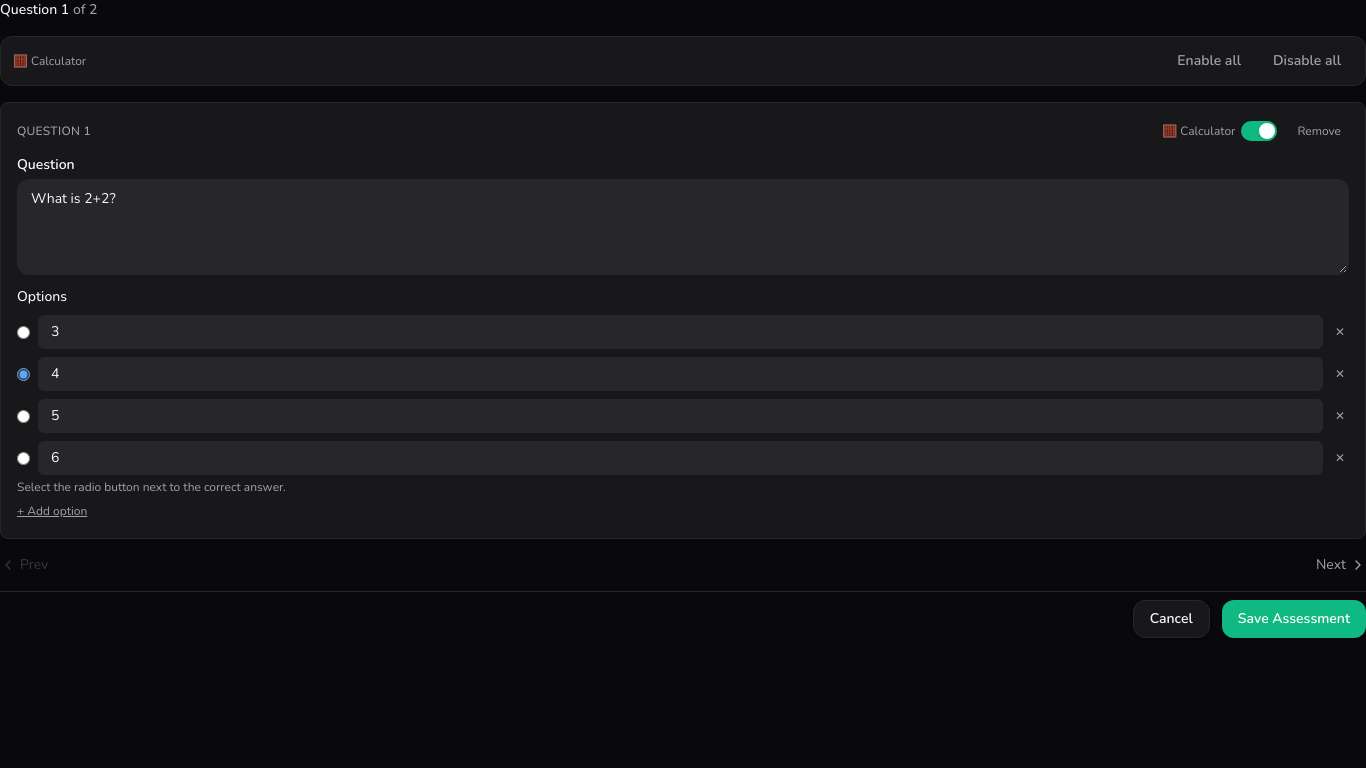
Test: AssessmentForm › cancels bulk confirm dialog when cancel is clicked
Click the button with aria-label "Enable calculator for all questions": (1209, 61) [1165, 45, 1253, 77]
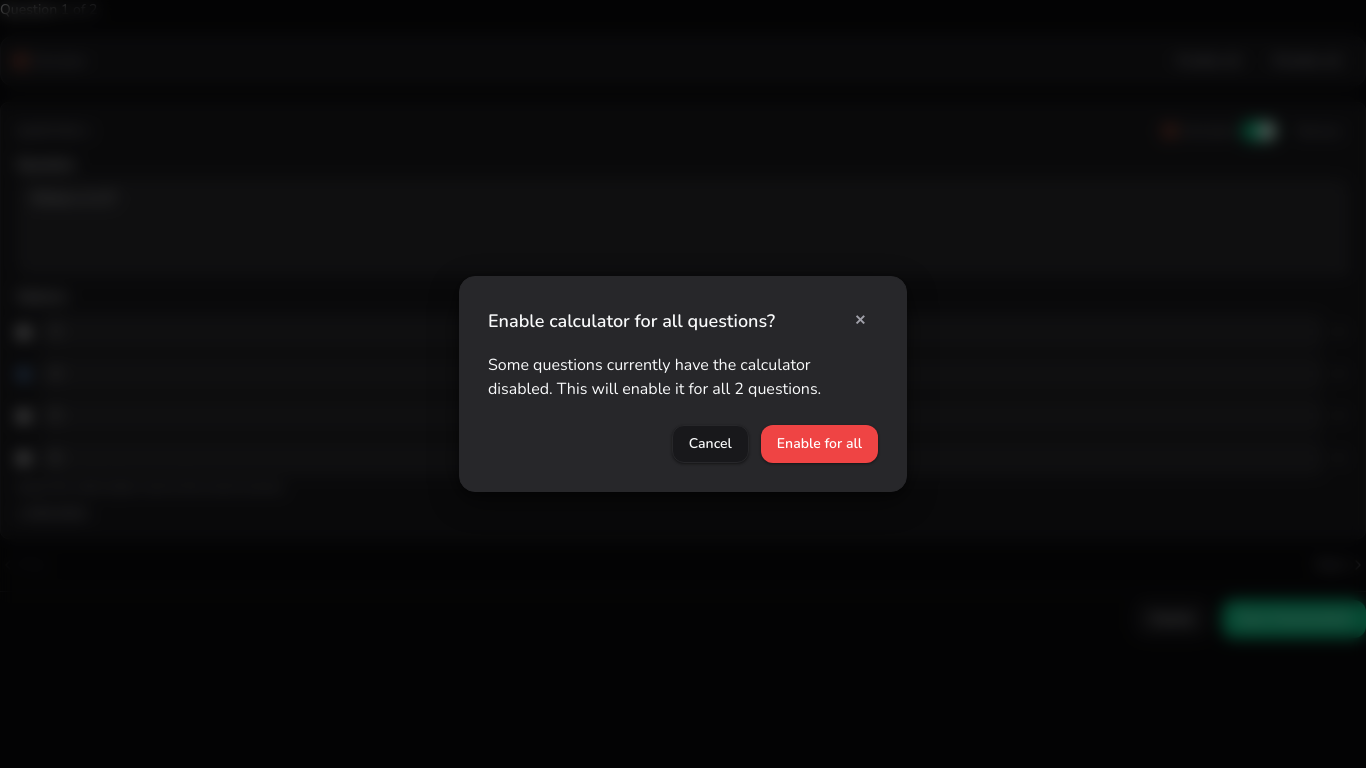
Result: the heading "Enable calculator for all questions?" is shown at [488, 307, 775, 335]
// Use the Cancel button scoped to the dialog (not the form's Cancel)
Click the button "Cancel": (710, 444) [672, 425, 749, 463]
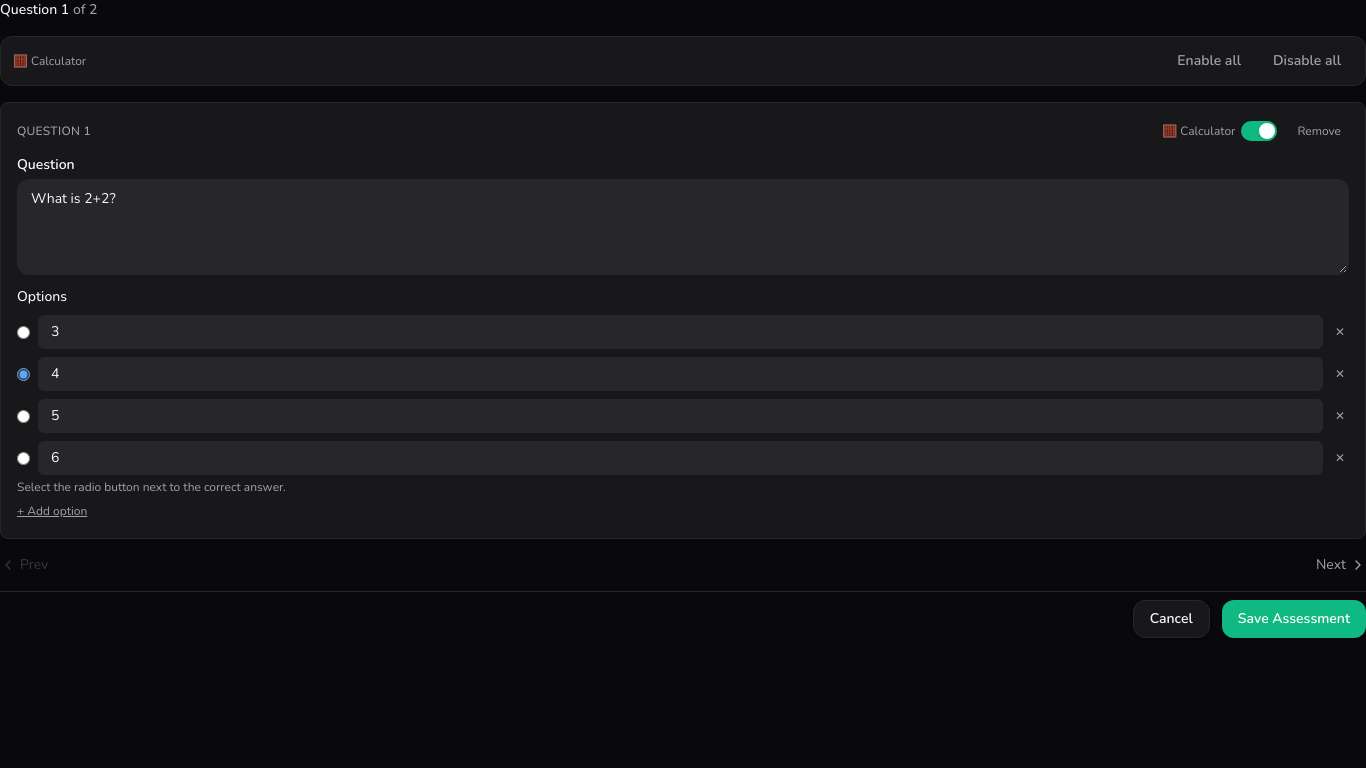
Result: the dialog is gone
